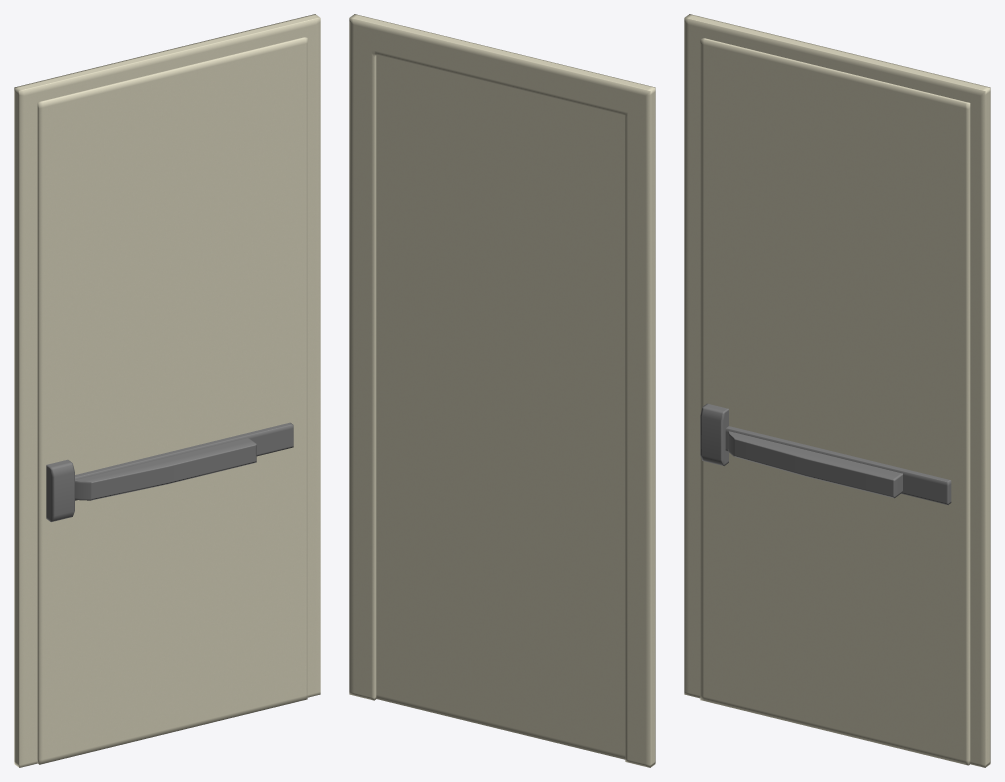
Rendered from SM_100_Door.fbx.
3 views of the same model, side by side, from view 1: azimuth 30°, elevation 25°; view 2: azimuth 150°, elevation 25°; view 3: azimuth 330°, elevation 25° (orthographic).
Parts seen in each view (by area): view 1: SM_100_Door; view 2: SM_100_Door; view 3: SM_100_Door.
Part boxes in pixels (<box>): SM_100_Door: <box>14,14,320,767</box>; SM_100_Door: <box>349,14,655,767</box>; SM_100_Door: <box>684,14,990,767</box>.
Bounding box in the file's own units: 104 × 11.19 × 223.
Materials: 1 (1 with a texture image).
